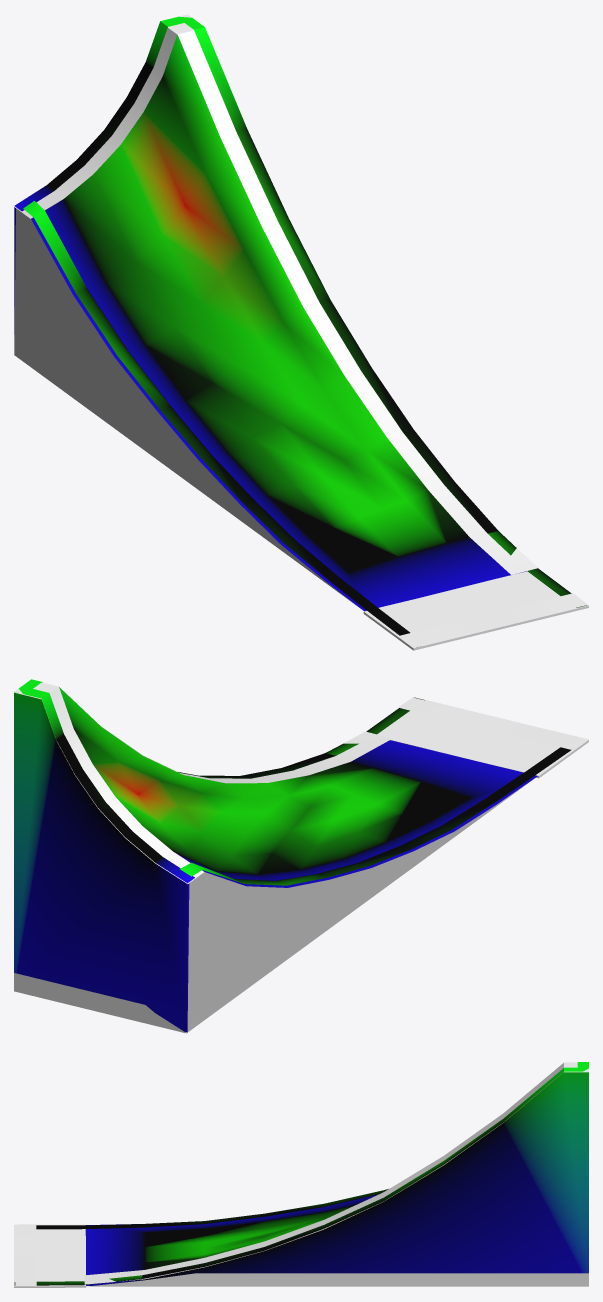
Rendered from ramp.fbx.
3 renders of one model, top to bottom at view 1: azimuth 30°, elevation 25°; view 2: azimuth 150°, elevation 25°; view 3: azimuth 270°, elevation 25°, orthographic. The views are drawn at different scales.
Parts seen in each view (by area): view 1: f_02; view 2: f_02; view 3: f_02.
Boxes of the visible parts, x1,y1,x2,y2 form: f_02: [14, 14, 588, 650]; f_02: [14, 679, 588, 1033]; f_02: [14, 1062, 588, 1287].
Size of the model in its own units: 3.5 by 5.73 by 13.83.
